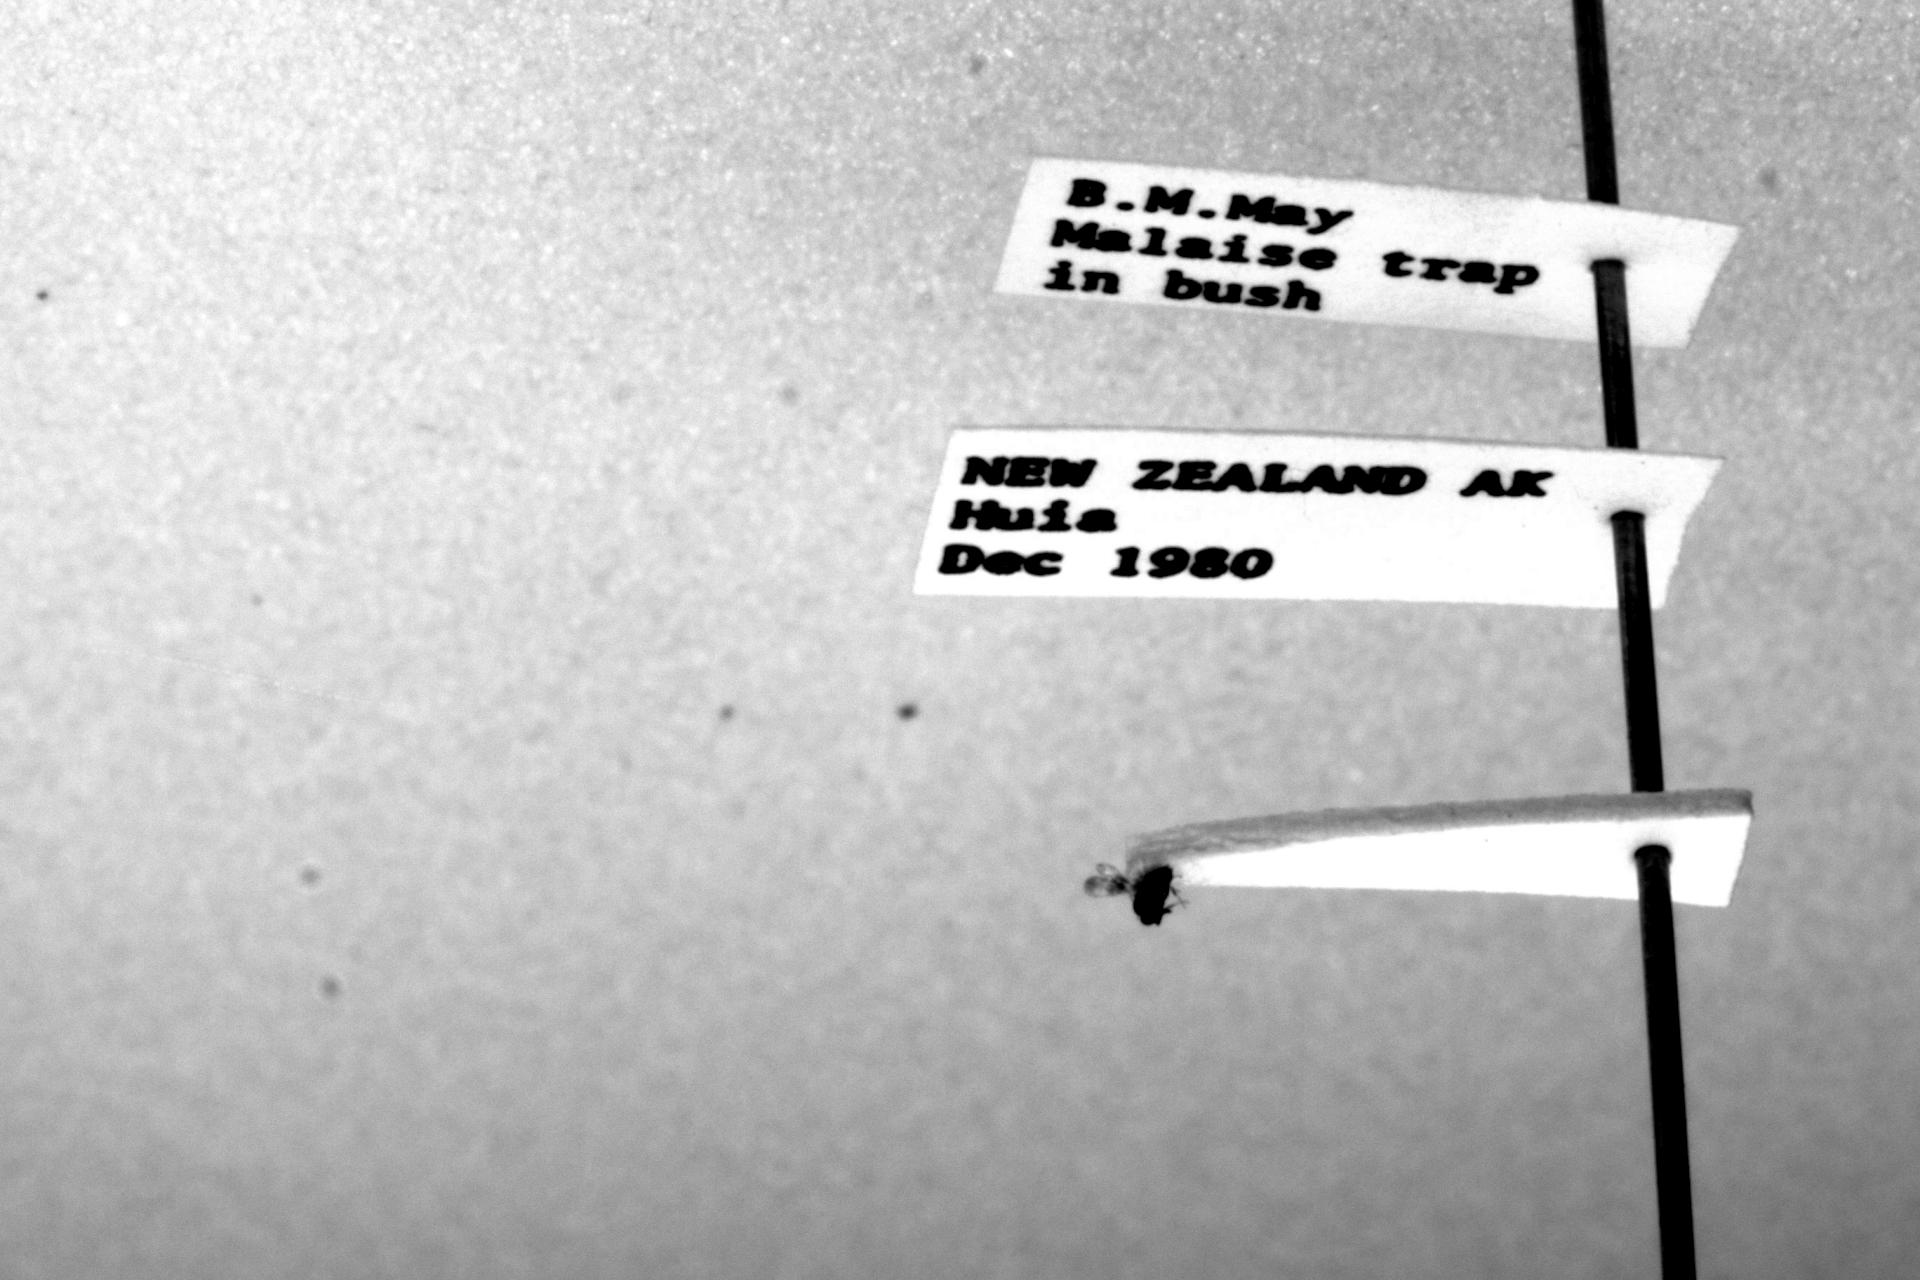typed_label: (914, 427, 1721, 607), (997, 157, 1736, 349)
